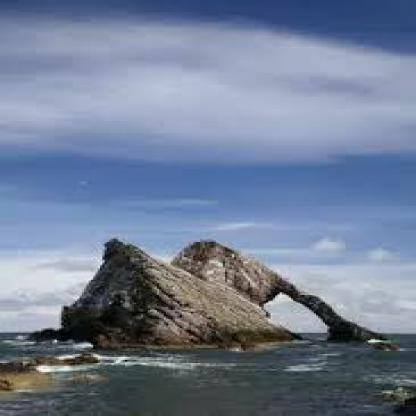Metamorphic_Quartize: (75, 221, 364, 354)
